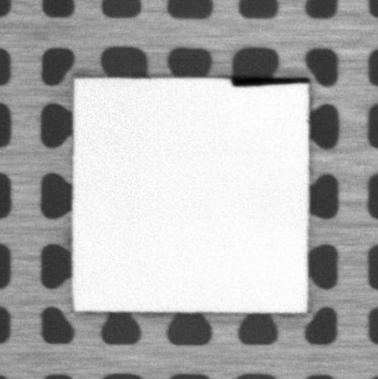DIE_BROKEN: (229, 74, 307, 87)
